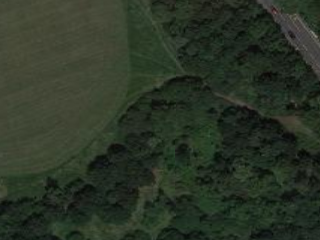Tree: (107, 183, 140, 217), (53, 199, 86, 233), (110, 143, 143, 177), (128, 117, 161, 151), (157, 92, 190, 126), (224, 108, 257, 142), (255, 134, 288, 168), (275, 154, 308, 188), (170, 198, 203, 232)
